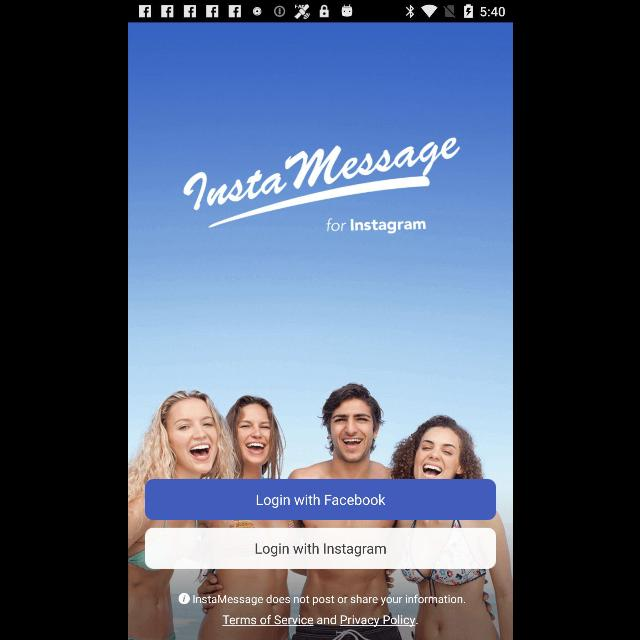backgroundimage: (128, 22, 512, 640)
icon: (178, 593, 190, 605)
image: (182, 138, 460, 235)
text: (193, 594, 465, 606), (221, 615, 417, 627)
textbutton: (144, 480, 496, 520), (144, 528, 496, 568)
uppertaskbar: (128, 1, 512, 23)
